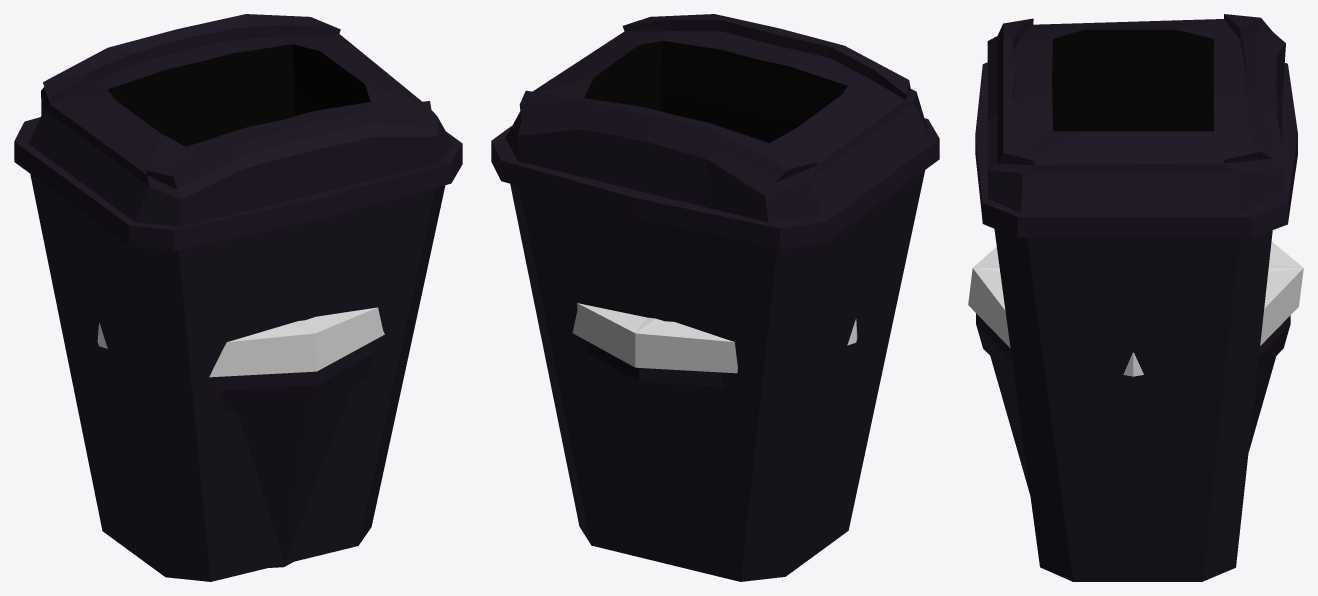
The model's file is model_trashcan_small.fbx.
3 views of the same model, side by side, from view 1: azimuth 30°, elevation 25°; view 2: azimuth 150°, elevation 25°; view 3: azimuth 270°, elevation 25° (orthographic). The views are drawn at different scales.
Parts seen in each view (by area): view 1: SM_TrashCan_Dorm, SM_TrashCan, SM_TrashCan_Lid; view 2: SM_TrashCan_Dorm, SM_TrashCan, SM_TrashCan_Lid; view 3: SM_TrashCan_Dorm, SM_TrashCan_Lid, SM_TrashCan.
Part boxes in pixels (x1=…): SM_TrashCan_Dorm: x1=14, y1=14, x2=462, y2=581; SM_TrashCan: x1=219, y1=341, x2=374, y2=567; SM_TrashCan_Lid: x1=97, y1=307, x2=384, y2=377; SM_TrashCan_Dorm: x1=491, y1=14, x2=939, y2=581; SM_TrashCan: x1=587, y1=342, x2=724, y2=514; SM_TrashCan_Lid: x1=572, y1=303, x2=857, y2=373; SM_TrashCan_Dorm: x1=975, y1=14, x2=1297, y2=581; SM_TrashCan_Lid: x1=968, y1=241, x2=1303, y2=376; SM_TrashCan: x1=976, y1=313, x2=1290, y2=494.
Size of the model in its own units: 3.56 by 3.02 by 4.68.
